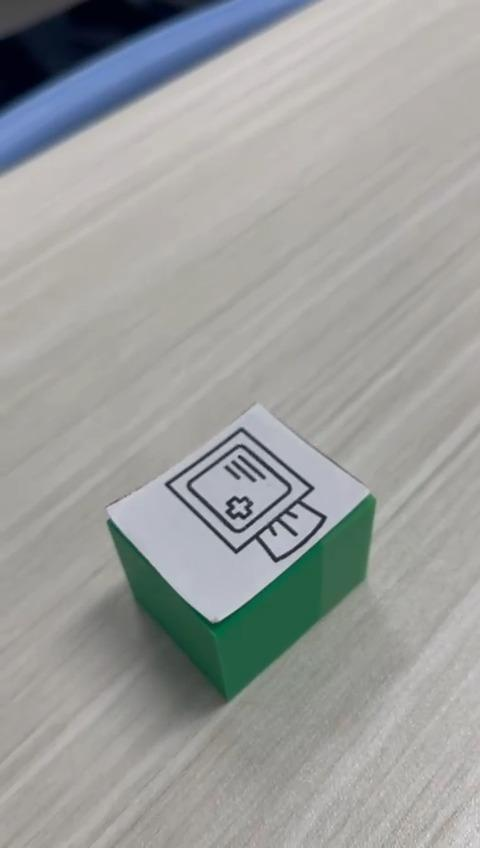Gauze: (104, 401, 376, 702)
